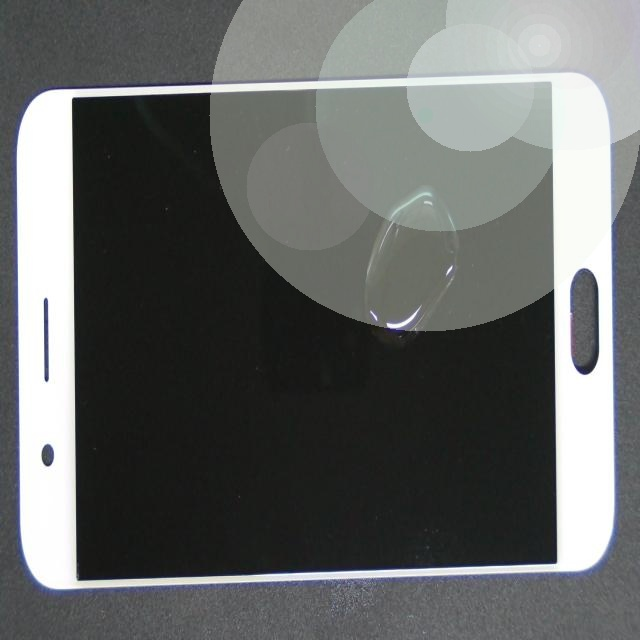oil: (232, 49, 599, 321)
